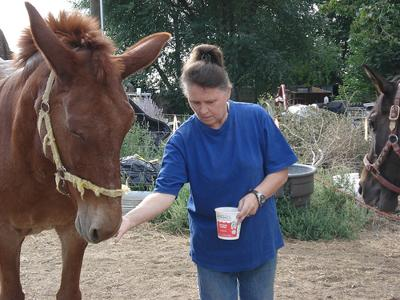person: (114, 45, 298, 300)
